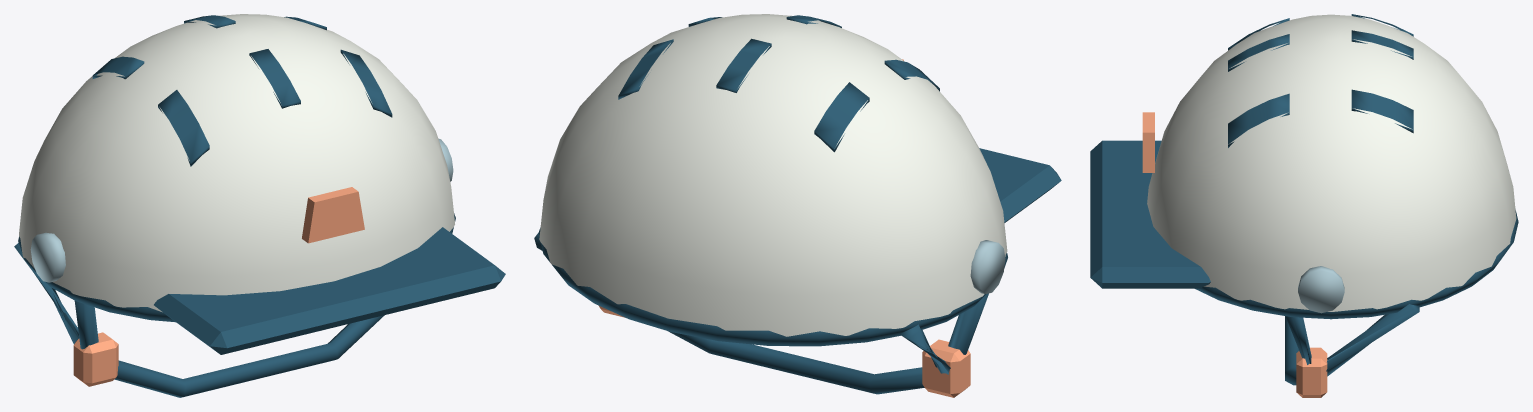
The model's file is helmet.glb.
3 views of the same model, side by side, from view 1: azimuth 30°, elevation 25°; view 2: azimuth 150°, elevation 25°; view 3: azimuth 270°, elevation 25° (orthographic). The views are drawn at different scales.
Parts seen in each view (by area): view 1: Coastal club | helmet; view 2: Coastal club | helmet; view 3: Coastal club | helmet.
Boxes of the visible parts, x1=… form: Coastal club | helmet: x1=14, y1=14, x2=505, y2=397; Coastal club | helmet: x1=534, y1=14, x2=1061, y2=397; Coastal club | helmet: x1=1090, y1=14, x2=1518, y2=397.
Size of the model in its own units: 0.632 by 0.5056 by 0.6228.
